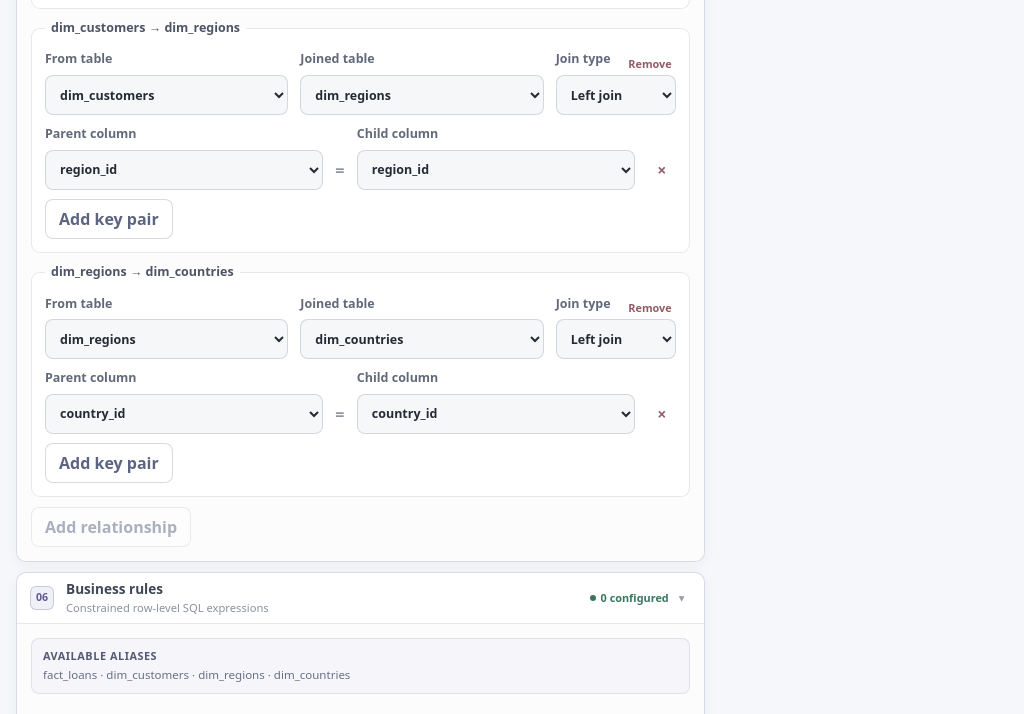
DataModelBuilder › prevents invalid endpoint choices and preserves compatible keys when an endpoint changes
(page scrolled)
Step 1. Select "fact_loans" in the dropdown named "Relationship 3 parent table" → (167, 339), box left=45, top=319, right=288, bottom=359
(page scrolled)
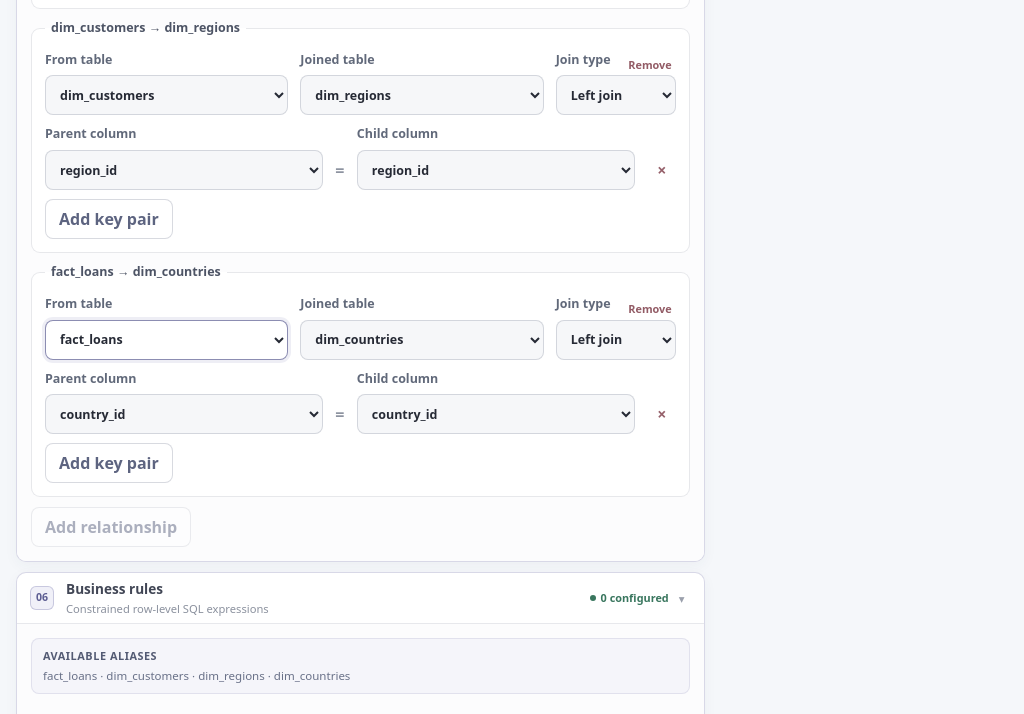
Expected: the dropdown named "Relationship 3 parent column 1" shows "country_id", left=45, top=394, right=323, bottom=434
Expected: the dropdown named "Relationship 3 child column 1" shows "country_id", left=357, top=394, right=635, bottom=434
Step 2. Select "Select a connected table" in the dropdown named "Relationship 3 parent table" → (167, 340), box left=45, top=320, right=288, bottom=360
(page scrolled)
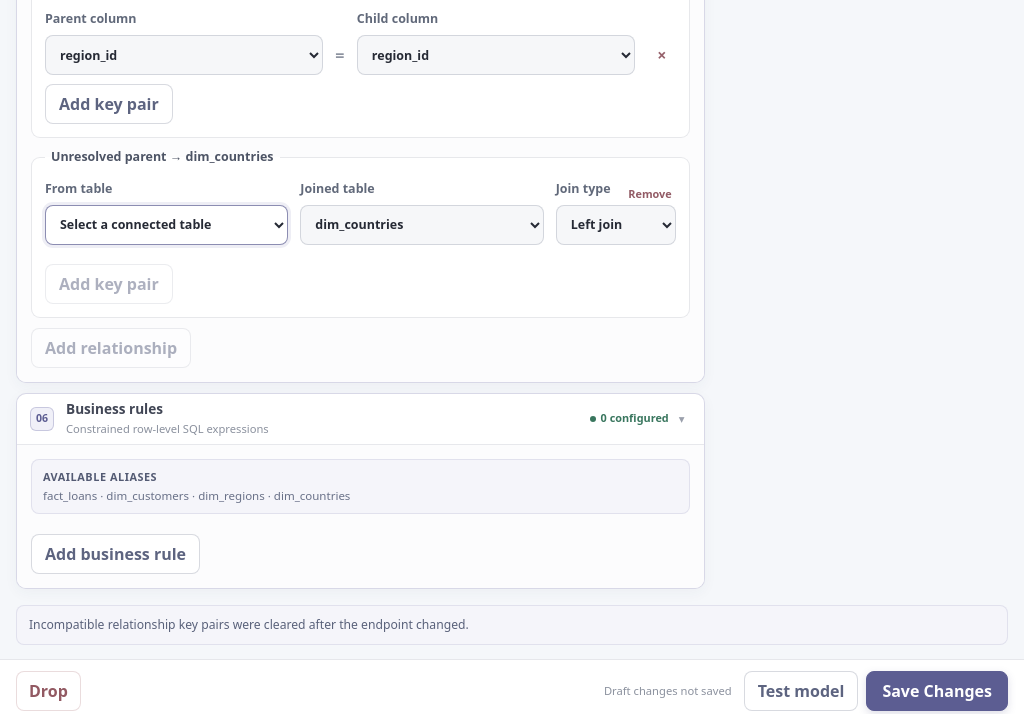
Expected: the text "Incompatible relationship key pairs were cleared after the endpoint changed." is shown, left=16, top=605, right=1008, bottom=645
